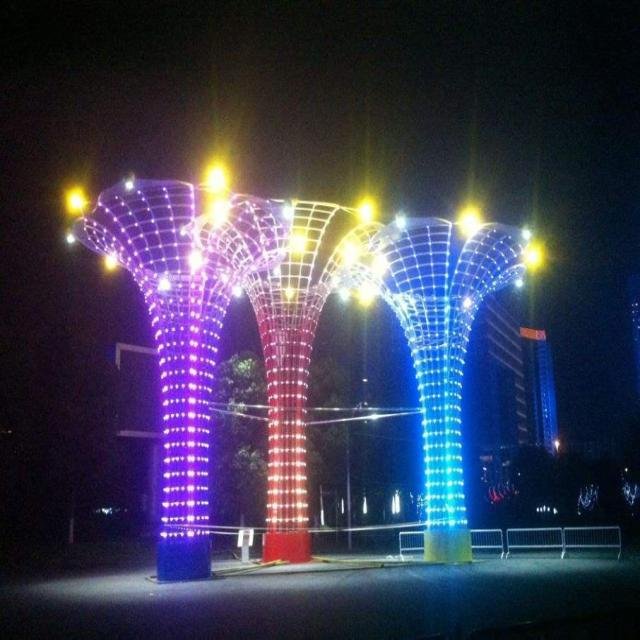other: (62, 133, 548, 311)
